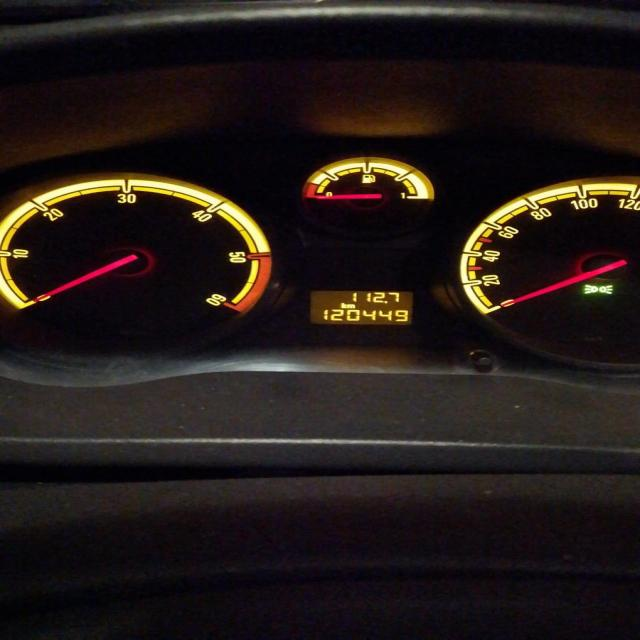odometer: (308, 290, 415, 326)
